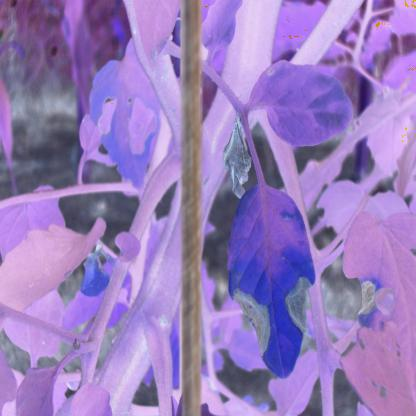Tomato Early blight leaf: (225, 180, 312, 378)
